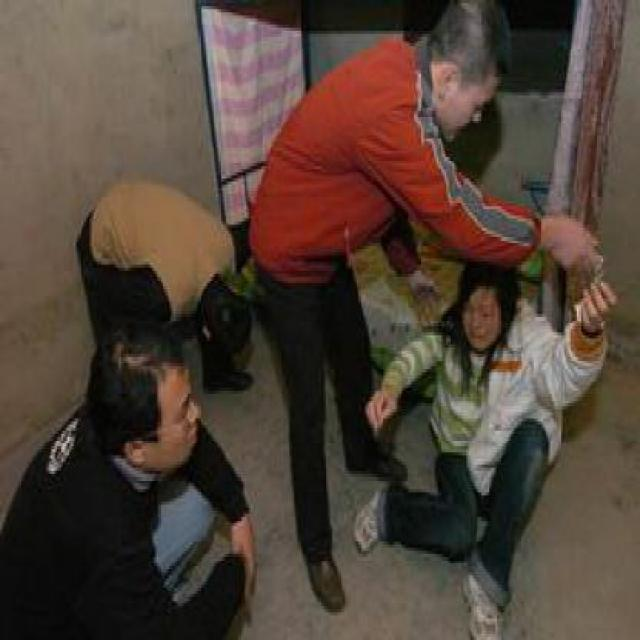fall: (341, 215, 624, 631)
